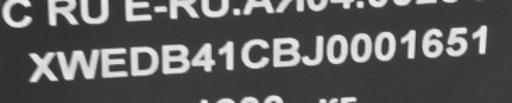letter: (53, 47, 99, 80), (236, 35, 272, 74), (156, 41, 192, 78), (127, 43, 161, 80), (22, 50, 58, 83), (98, 44, 130, 81), (187, 39, 217, 78), (268, 35, 302, 68), (395, 26, 421, 65), (418, 24, 444, 61), (371, 29, 397, 66), (212, 39, 240, 72), (300, 33, 326, 68), (346, 31, 372, 64), (323, 32, 349, 65), (444, 26, 470, 57), (468, 22, 492, 55)
